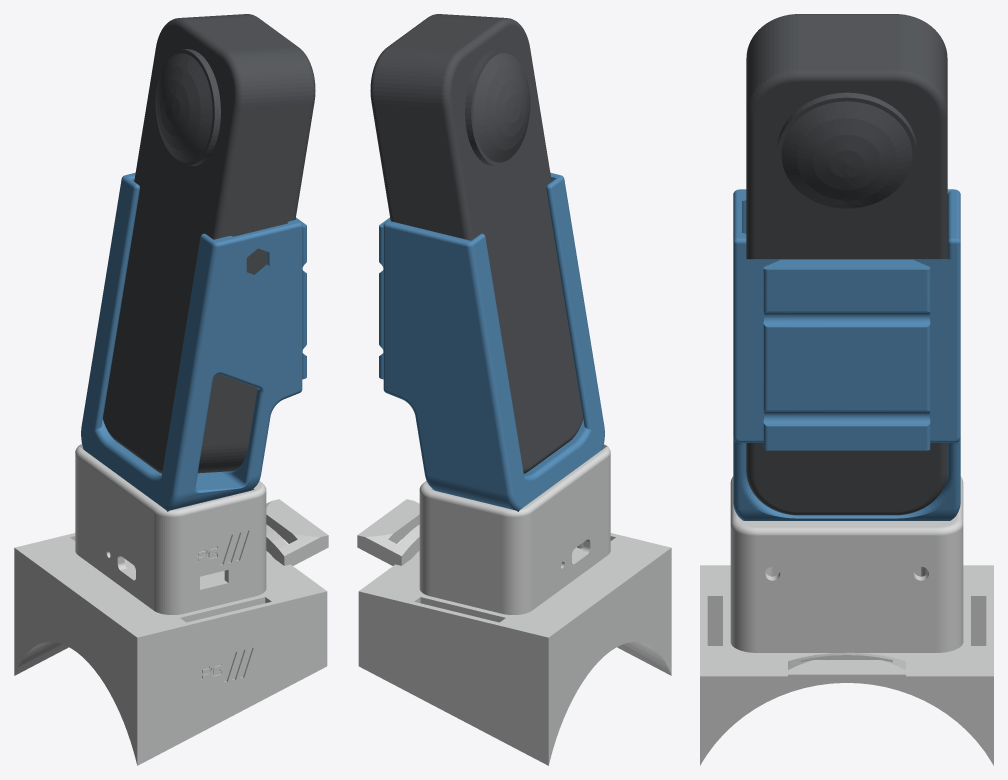
Rendered from hand.glb.
3 renders of one model, left to right at view 1: azimuth 30°, elevation 25°; view 2: azimuth 150°, elevation 25°; view 3: azimuth 270°, elevation 25°, orthographic. The views are drawn at different scales.
Visible parts, largest first — view 1: insta360_x5_envelope, pg_wrist_saddle, x5_lite_frame, pg_pod; view 2: insta360_x5_envelope, pg_wrist_saddle, x5_lite_frame, pg_pod; view 3: insta360_x5_envelope, x5_lite_frame, pg_pod, pg_wrist_saddle.
Boxes of the visible parts, left/top/right/bottom form: insta360_x5_envelope: left=103, top=14, right=315, bottom=473; pg_wrist_saddle: left=14, top=499, right=328, bottom=765; x5_lite_frame: left=81, top=172, right=306, bottom=511; pg_pod: left=75, top=444, right=266, bottom=608; insta360_x5_envelope: left=370, top=14, right=582, bottom=473; pg_wrist_saddle: left=357, top=499, right=671, bottom=765; x5_lite_frame: left=379, top=172, right=604, bottom=511; pg_pod: left=419, top=444, right=610, bottom=608; insta360_x5_envelope: left=746, top=14, right=947, bottom=515; x5_lite_frame: left=733, top=189, right=960, bottom=520; pg_pod: left=730, top=476, right=963, bottom=644; pg_wrist_saddle: left=700, top=565, right=993, bottom=765.
Size of the model in its own units: 0.072 by 0.197 by 0.0672.
